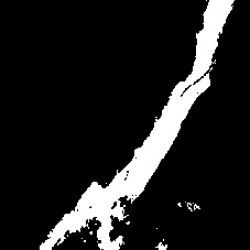crack: (40, 2, 234, 248)
pinhole: (178, 204, 197, 211), (158, 240, 168, 248)
